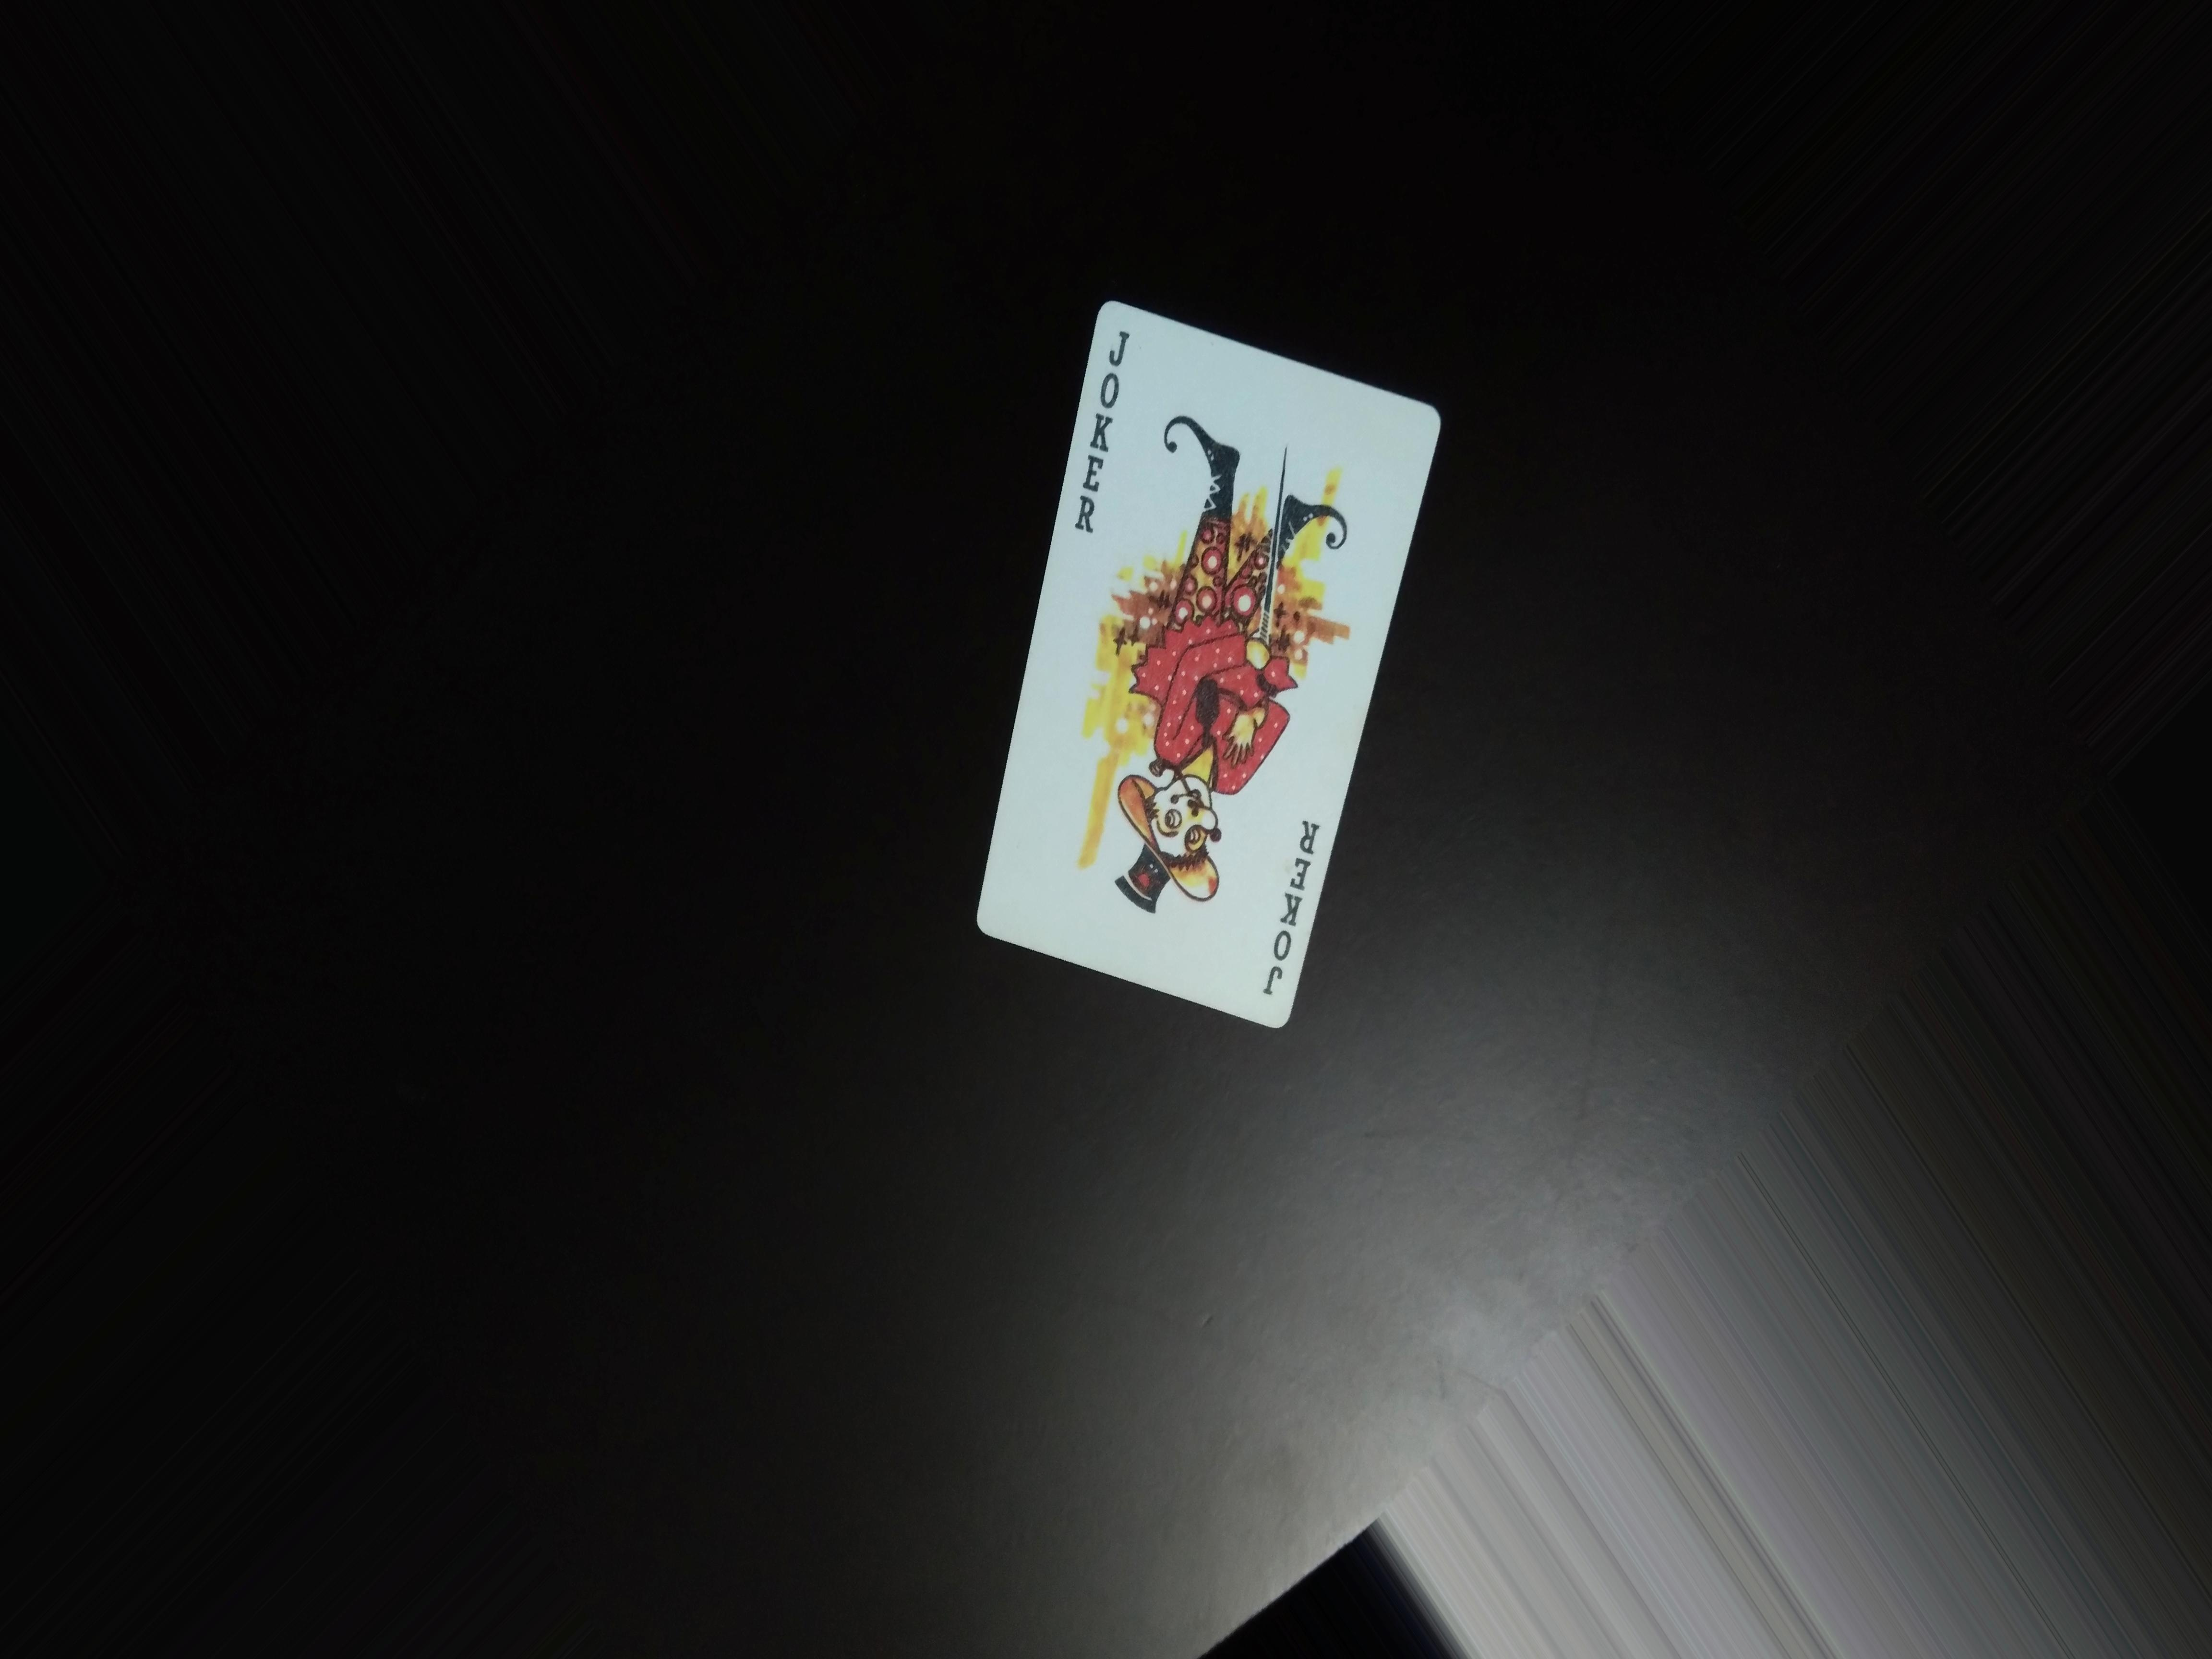JOKER: (1066, 314, 1143, 552)
